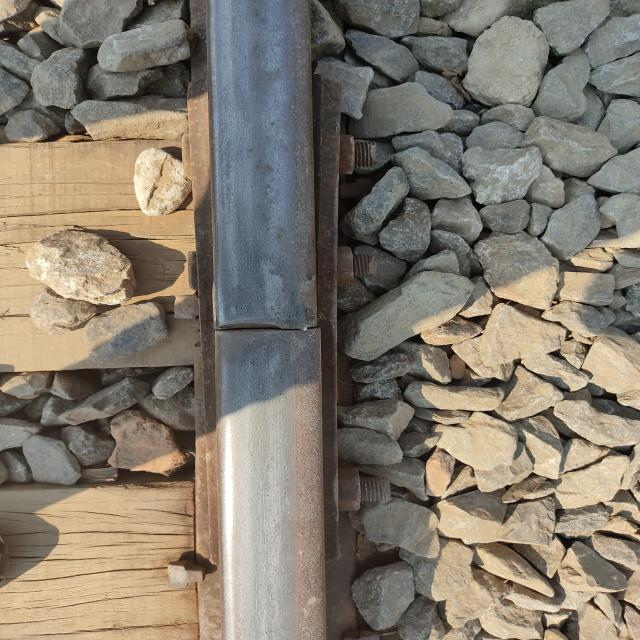non-defective: (166, 228, 380, 431)
